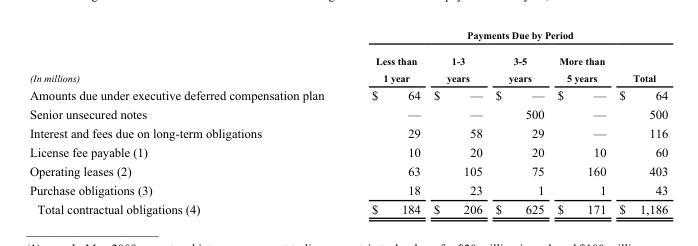table: (28, 28, 667, 215)
table column: (28, 28, 347, 215), (347, 28, 426, 215), (426, 28, 488, 215), (488, 28, 550, 215), (550, 28, 612, 215), (612, 28, 667, 215)
table column header: (28, 28, 667, 85)
table row: (28, 47, 667, 85), (28, 28, 667, 47), (28, 85, 667, 104), (28, 104, 667, 123), (28, 123, 667, 142), (28, 142, 667, 161), (28, 179, 667, 198), (28, 161, 667, 179), (28, 198, 667, 215)
table spanning cell: (28, 28, 347, 85), (347, 28, 667, 47)
